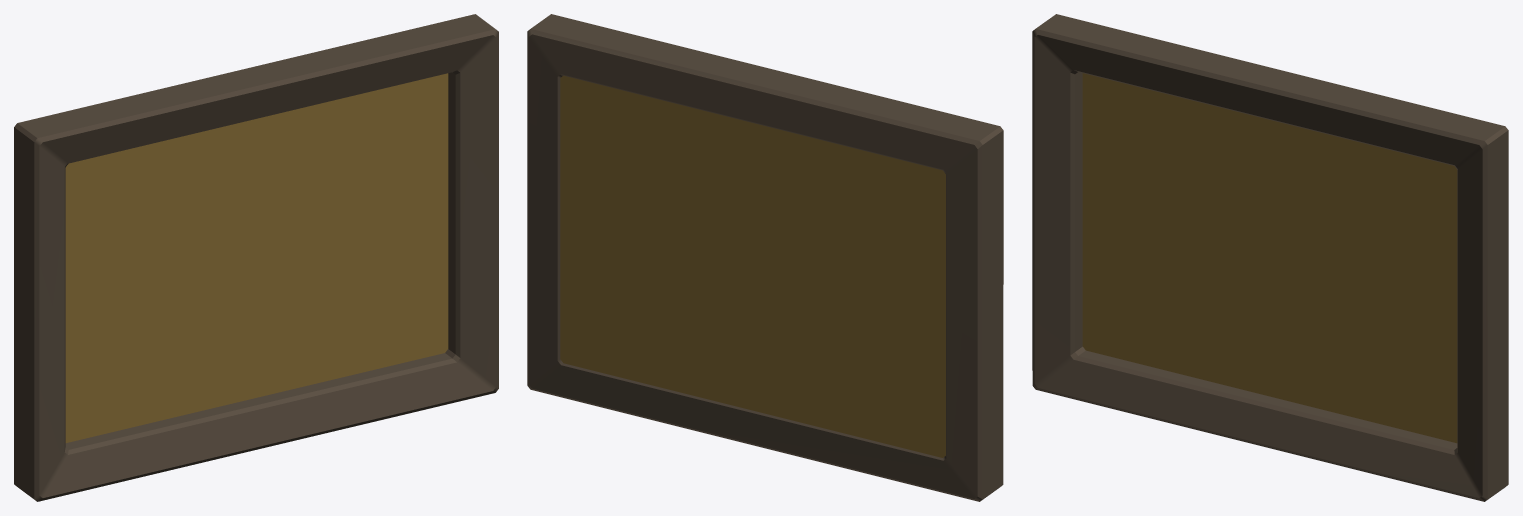
Rendered from WM_PaintingGold.fbx.
3 renders of one model, left to right at view 1: azimuth 30°, elevation 25°; view 2: azimuth 150°, elevation 25°; view 3: azimuth 330°, elevation 25°, orthographic.
Parts seen in each view (by area): view 1: pCube35; view 2: pCube35; view 3: pCube35.
Boxes of the visible parts, <box> form: pCube35: <box>14,14,498,501</box>; pCube35: <box>527,14,1003,501</box>; pCube35: <box>1032,14,1508,501</box>.
Bounding box in the file's own units: 10.91 × 8.21 × 1.12.
